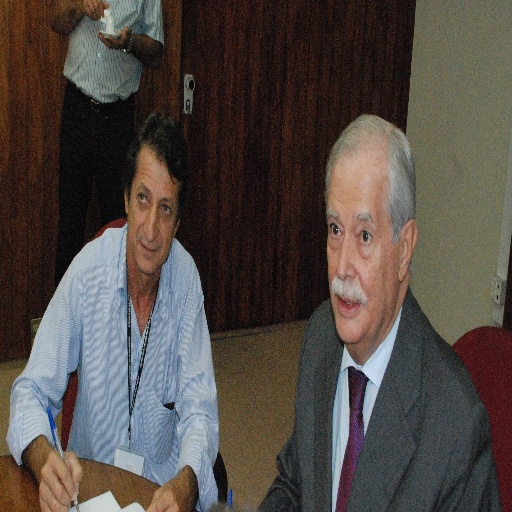hand: (32, 440, 77, 507), (143, 481, 180, 511), (96, 27, 132, 53), (81, 0, 110, 24)
